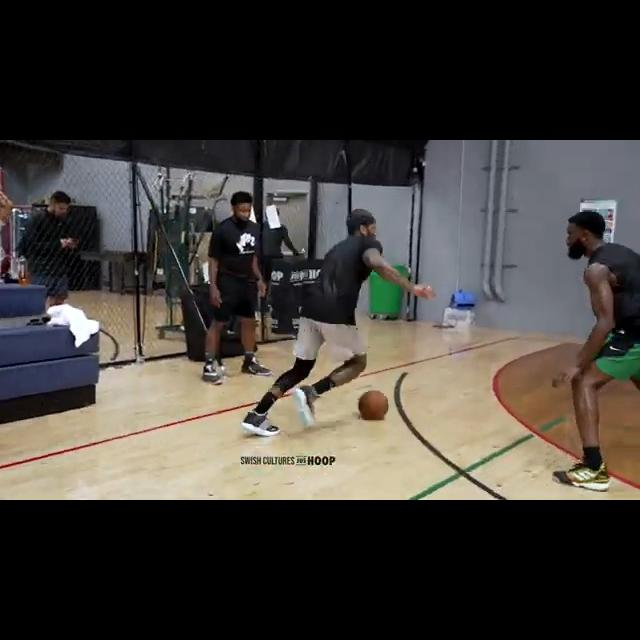basketball: (355, 389, 391, 422)
person: (246, 209, 436, 441), (551, 210, 640, 499), (195, 187, 277, 387), (16, 188, 75, 322)
